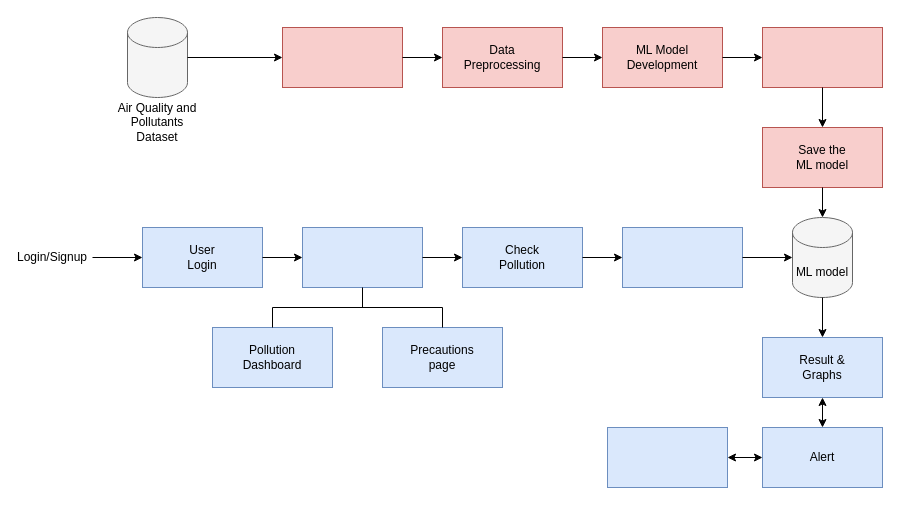
The diagram is 900 pixels wide and 505 high, and some of its shapes have lost their labels. The centre of each missing label's shape, as x and y in pixels:
"Choose Inputs or Pollutants" goes at point (682, 257).
"Data Analysis" goes at point (342, 57).
"Global Warming Prediction" goes at point (667, 457).
"Home" goes at point (362, 257).
"ML Model Training" goes at point (822, 57).
